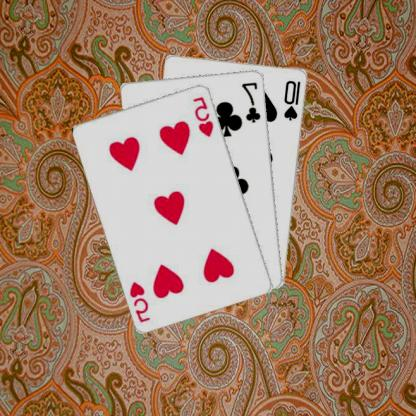10S: (283, 77, 304, 122)
5H: (192, 93, 217, 138), (129, 278, 154, 323)
7C: (241, 79, 264, 124)
